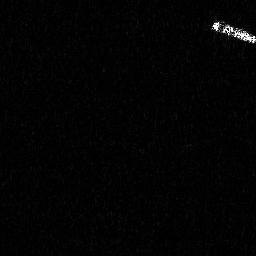ship: (210, 19, 256, 48)
